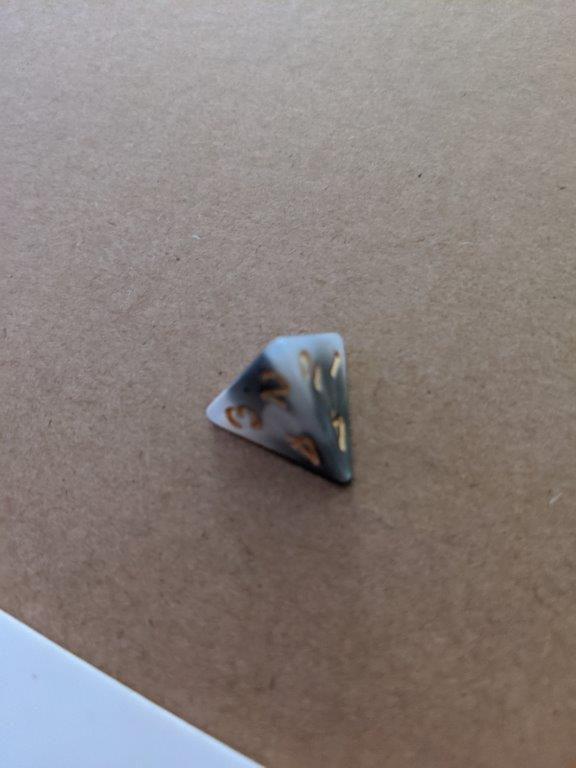d4-2: (204, 326, 360, 499)
